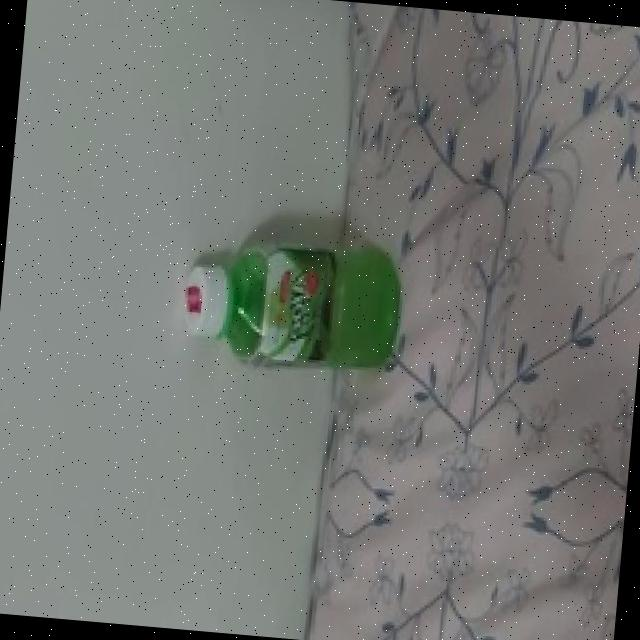bottle: (164, 224, 413, 384)
cap: (180, 257, 232, 345)
label: (242, 246, 335, 370)
